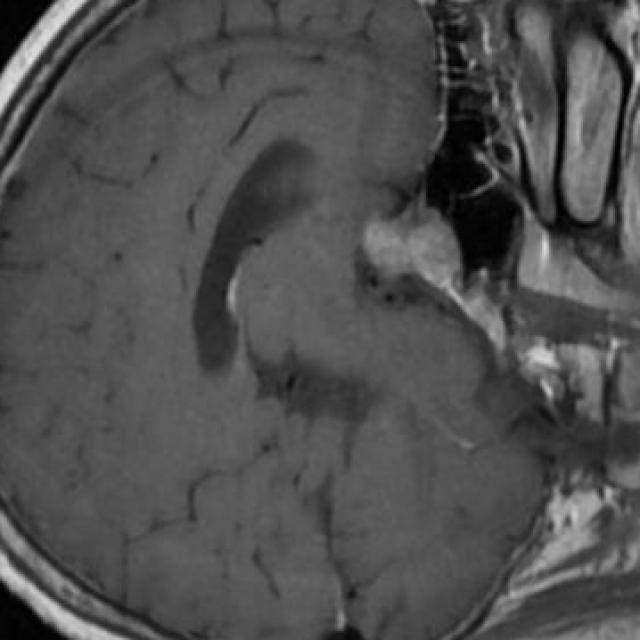pituitary: (364, 210, 462, 292)
